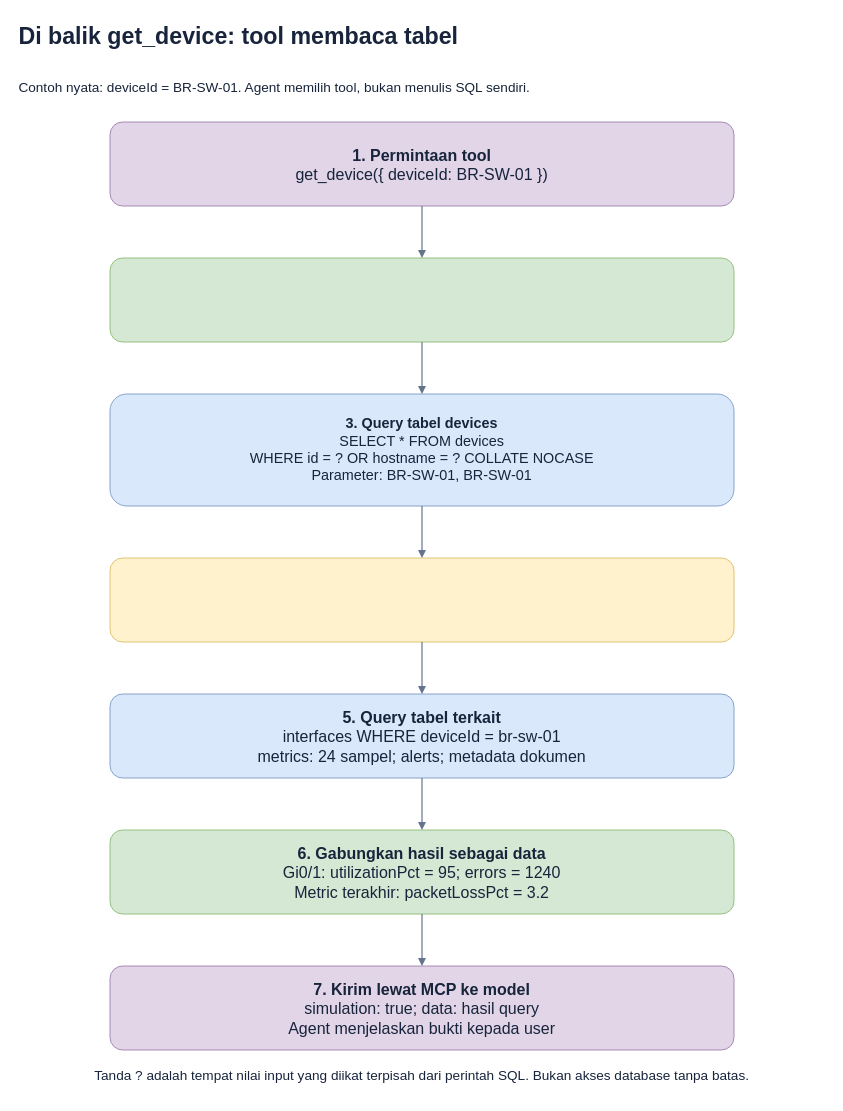
The diagram is 843 pixels wide and 1111 high, and some of its shapes have lost their labels. Each missing label, with the box of its shape:
2. Handler MCP meneruskan NetworkService.getDevice(BR-SW-01): (109, 257, 734, 342)
4. Ditemukan ID internal id = br-sw-01; siteId = site-br Hostname = BR-SW-01: (109, 557, 734, 642)
